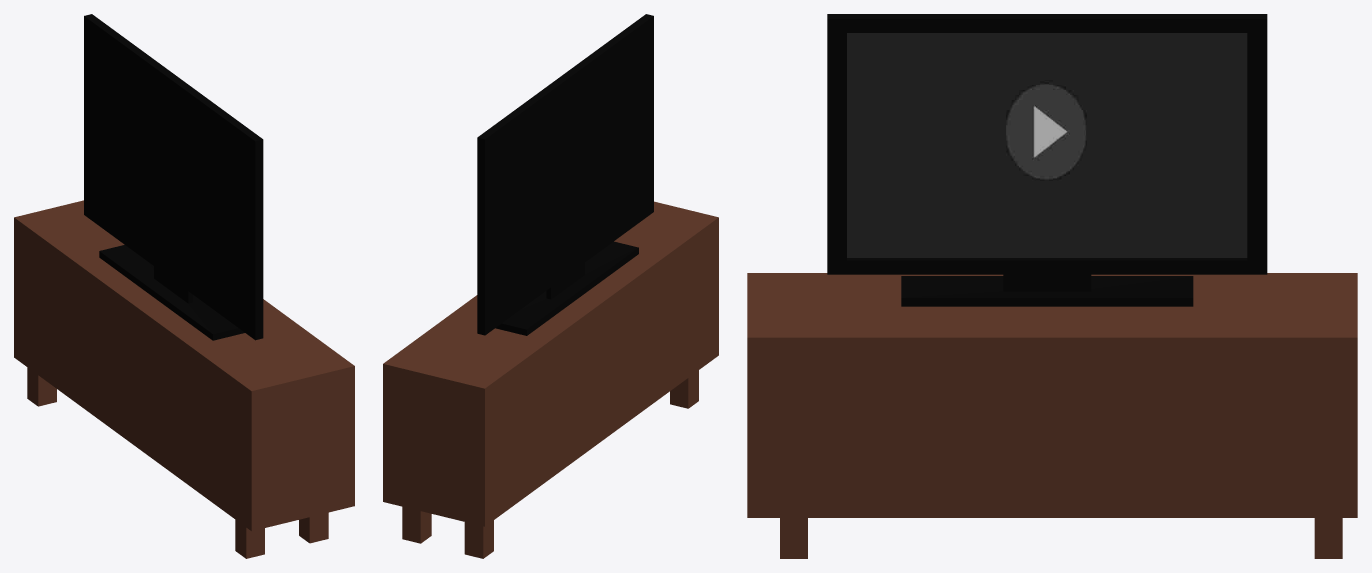
File: Model_Video.dae
3 views of the same model, side by side, from view 1: azimuth 30°, elevation 25°; view 2: azimuth 150°, elevation 25°; view 3: azimuth 270°, elevation 25° (orthographic). The views are drawn at different scales.
Visible parts, largest first — view 1: Spot_Video.002, Spot_Bild.008, Cube.149, Cube.151, Cube.148; view 2: Spot_Video.002, Spot_Bild.008, Cube.151, Cube.150, Cube.149; view 3: Spot_Video.002, Spot_Bild.008, Cube.150, Cube.148.
Part boxes in pixels (x1,y1,x2,y2): Spot_Video.002: (14, 200, 354, 531); Spot_Bild.008: (84, 14, 263, 340); Cube.149: (235, 520, 264, 558); Cube.151: (27, 367, 56, 406); Cube.148: (299, 512, 328, 543); Spot_Video.002: (383, 201, 718, 526); Spot_Bild.008: (477, 14, 653, 335); Cube.151: (464, 520, 493, 558); Cube.150: (402, 506, 431, 543); Cube.149: (670, 370, 698, 408); Spot_Video.002: (747, 273, 1357, 517); Spot_Bild.008: (827, 14, 1267, 306); Cube.150: (1314, 518, 1342, 558); Cube.148: (780, 518, 807, 558).
Bounding box in the file's own units: 0.5025 × 2 × 1.85.
Materials: 3 (1 with a texture image).
